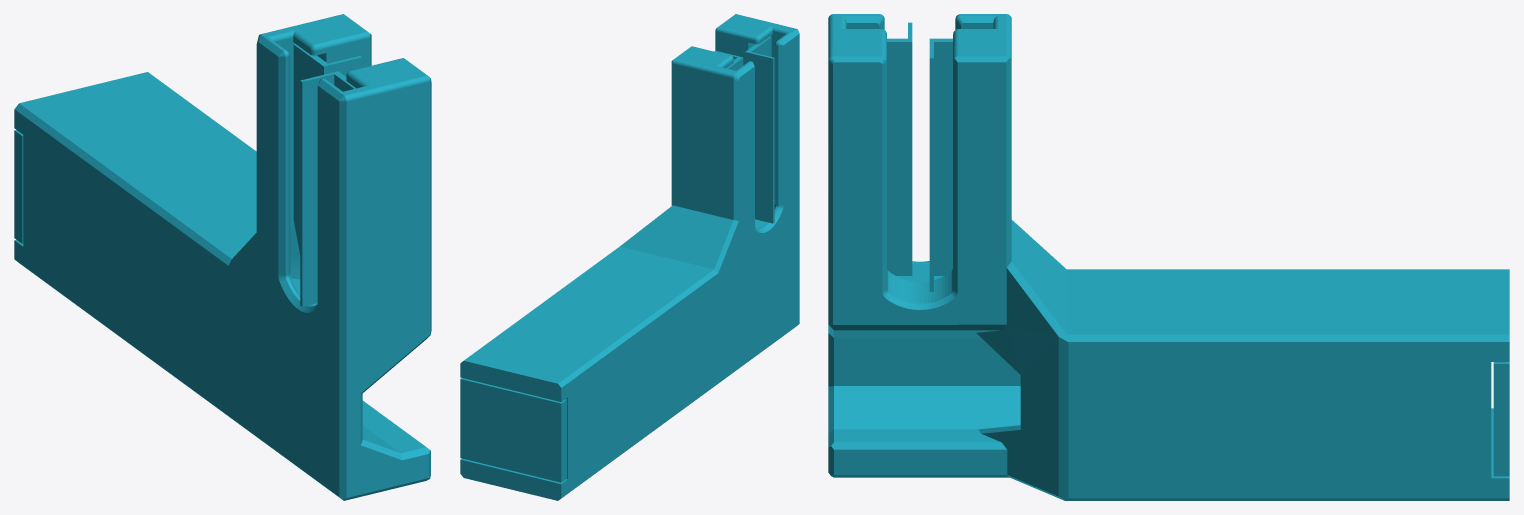
File: TopMountDockCloseV4.glb
3 renders of one model, left to right at view 1: azimuth 30°, elevation 25°; view 2: azimuth 150°, elevation 25°; view 3: azimuth 270°, elevation 25°, orthographic. The views are drawn at different scales.
Bounding box in the file's own units: 18.25 × 50.73 × 74.28.
